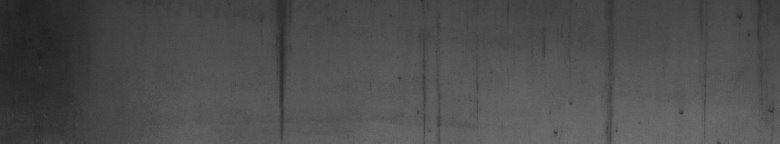hd: (276, 4, 288, 136)
